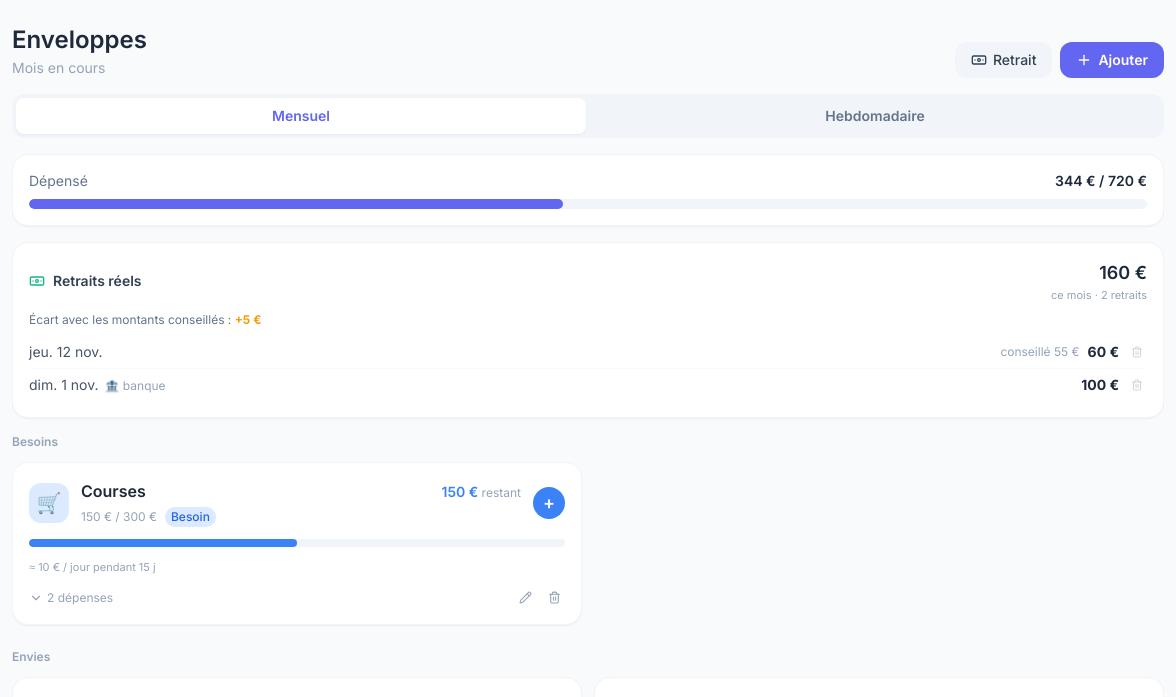
Enveloppes › cartes : reste, report, prévision, dépenses de la période
expect the text "150 €" is shown: met, box [442,482,478,500]
Click the button "2 dépenses": coordinates (82, 597) [29,590,511,606]
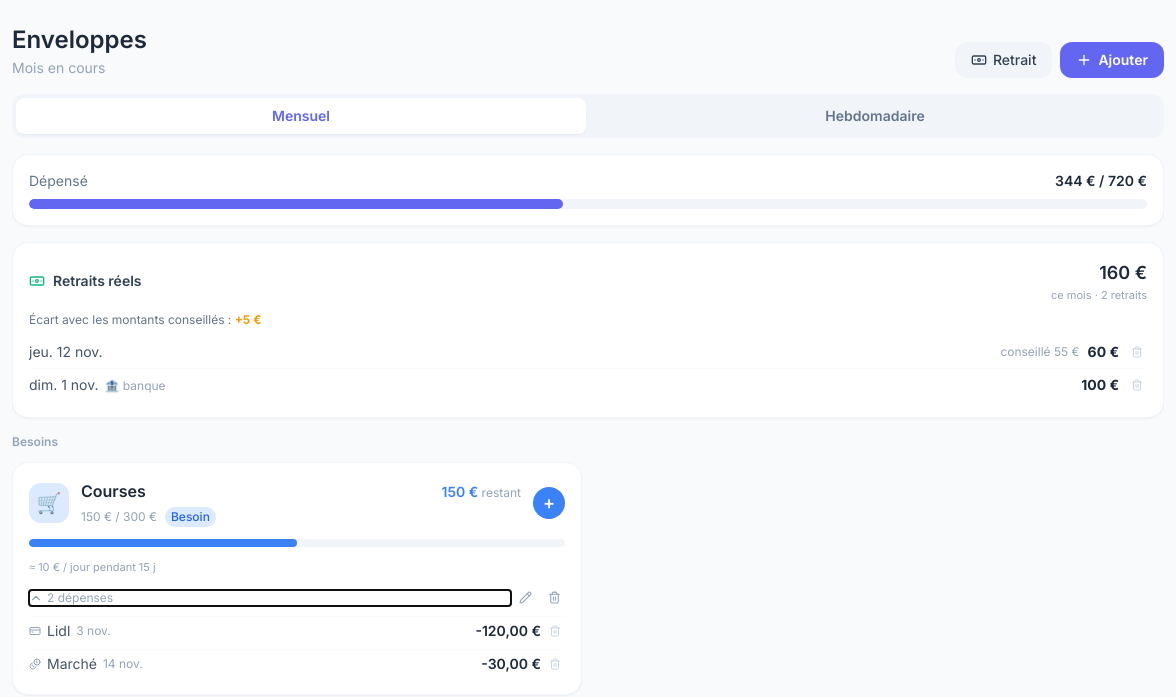
expect the text "Retraits réels" is shown: met, box [29,271,142,291]
expect the text "Marché" is shown: met, box [47,654,97,674]
